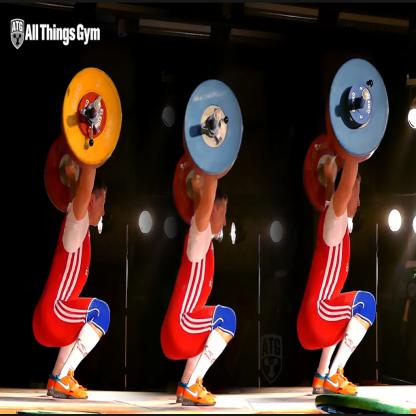Barbell: (59, 62, 126, 167), (327, 53, 391, 161), (182, 76, 244, 178)
